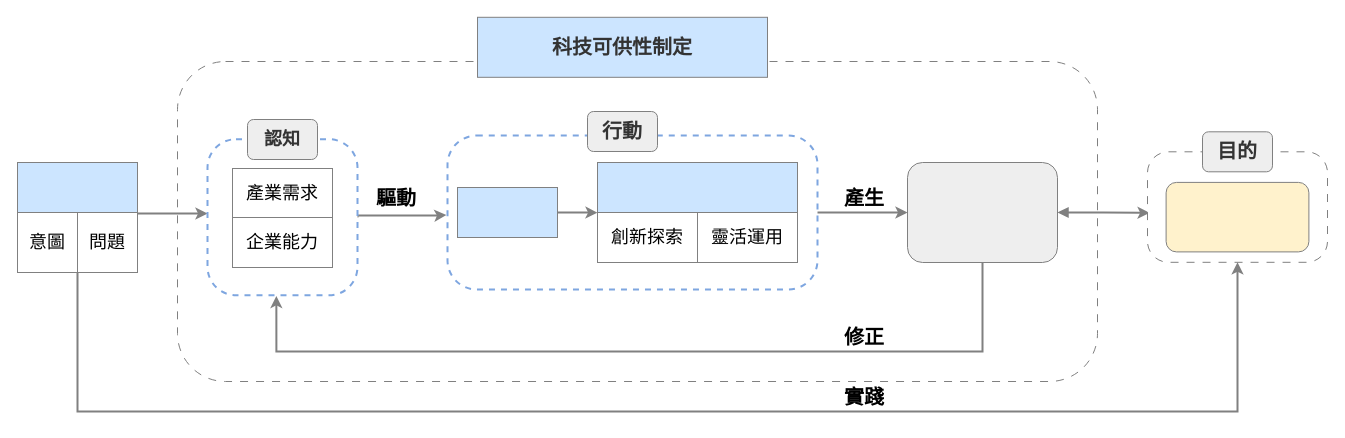
Some shapes in this 1345 by 438 pixel diagram are drawn without their labels. The centre of each missing label's shape, as x and y in pixels:
"平台階段性 應用成果" goes at point (982, 212).
"探索 可供性" goes at point (507, 212).
"數位紡織 產業生態系" goes at point (1237, 216).
"能動性" goes at point (77, 187).
"雙元性能力實現可供性" goes at point (697, 187).
